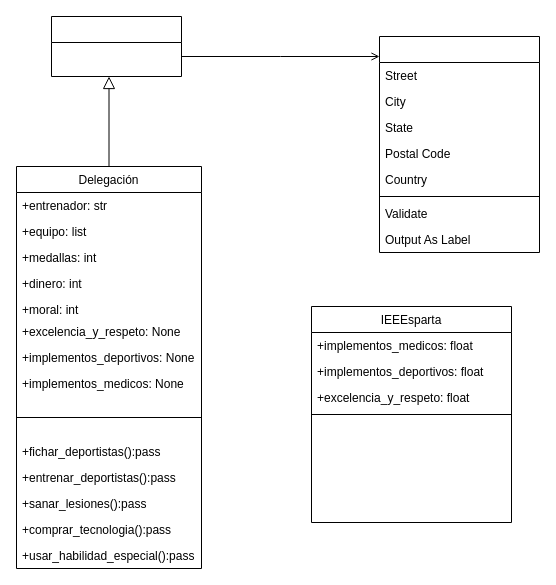
Some shapes in this 556 by 585 pixel diagram are drawn without their labels. Each missing label, with the box of its shape:
ABC: (50, 16, 182, 76)
Address: (378, 36, 540, 252)
